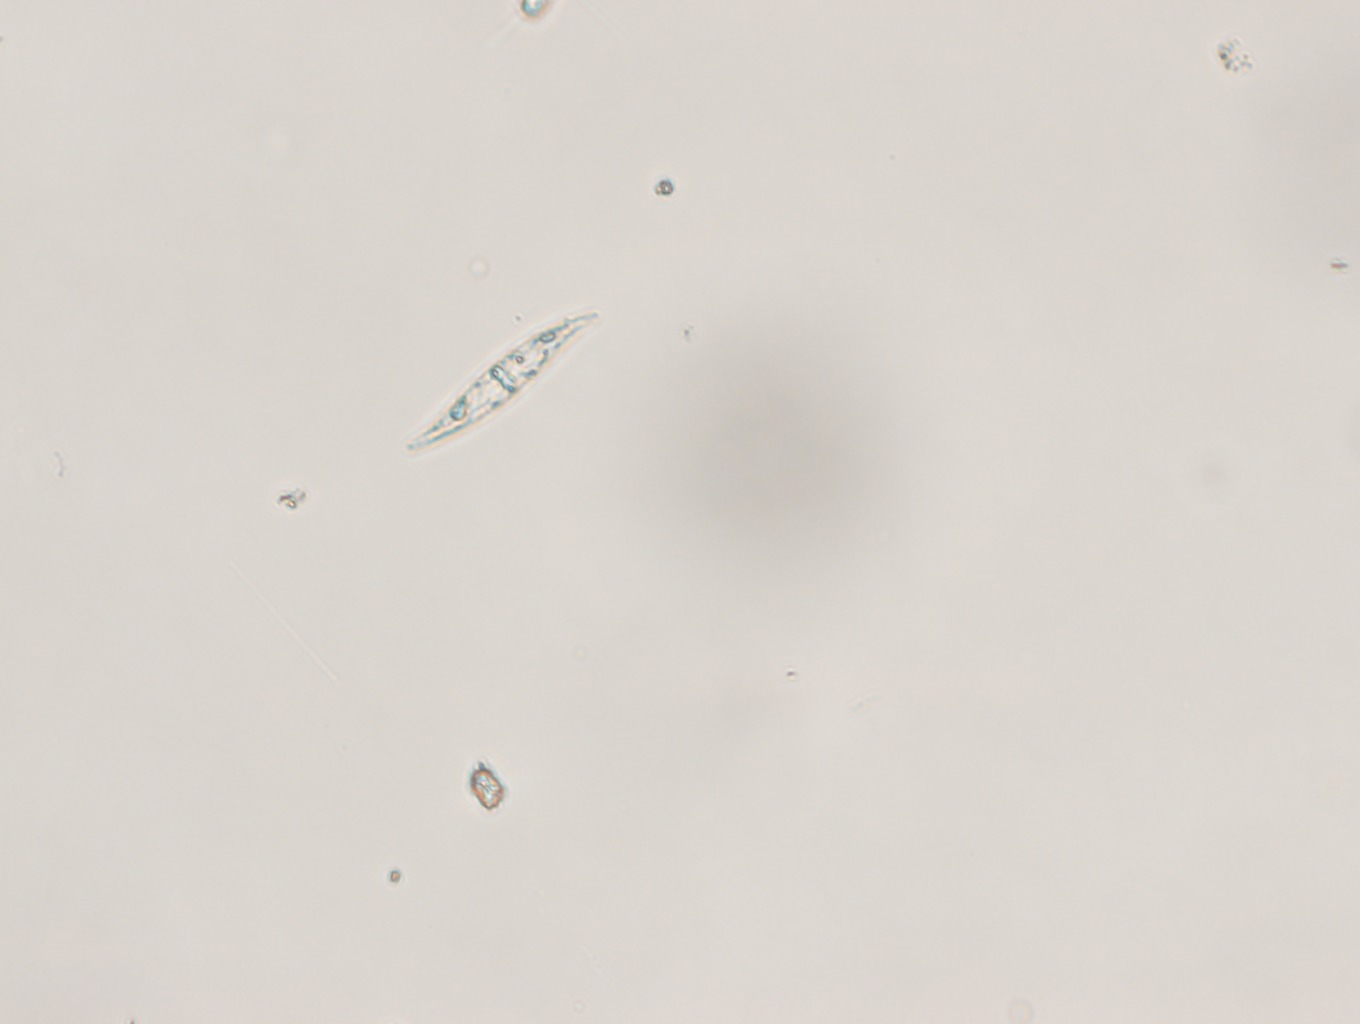pleurosigma pelagicum: (406, 305, 612, 460)
